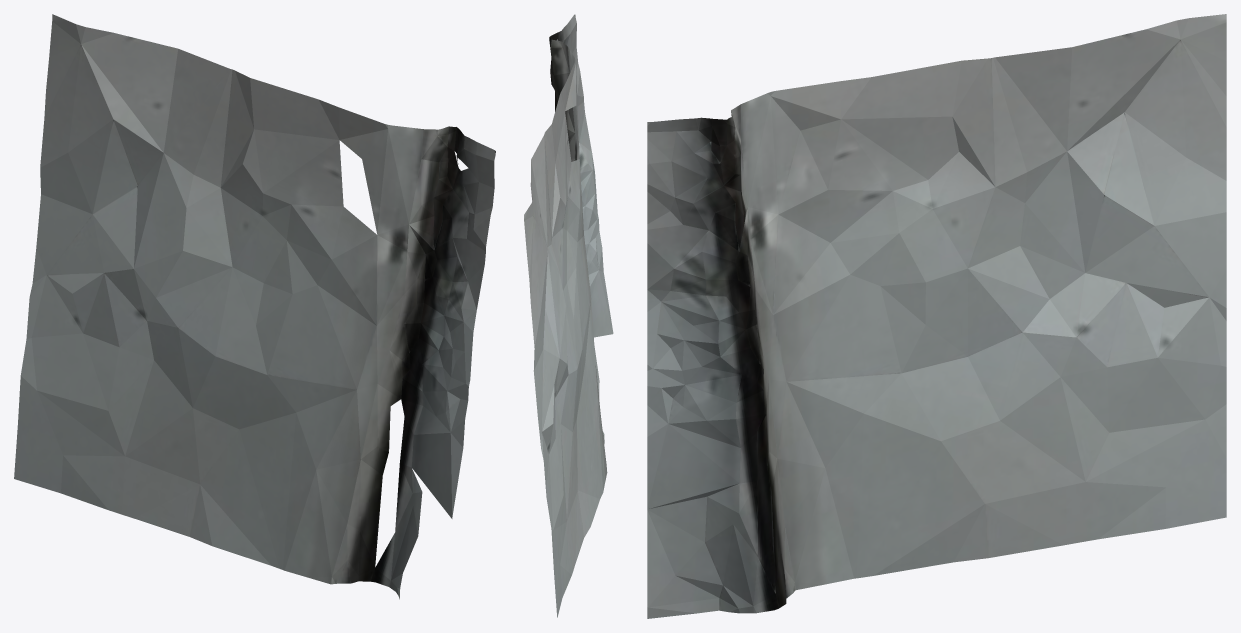
The picture shows the model from 3 angles, left to right: view 1: azimuth 30°, elevation 25°; view 2: azimuth 150°, elevation 25°; view 3: azimuth 270°, elevation 25°; orthographic projection. The views are drawn at different scales.
Size of the model in its own units: 0.8866 by 1.67 by 1.67.
3 materials, 3 textured.
